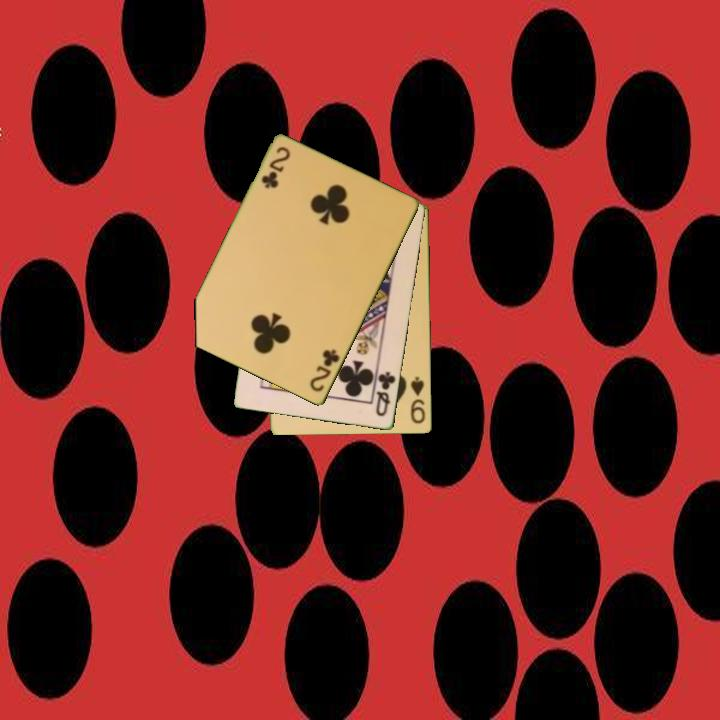2c: (306, 346, 343, 395), (258, 143, 293, 192)
9s: (407, 374, 428, 426)
Qc: (372, 365, 399, 419)
